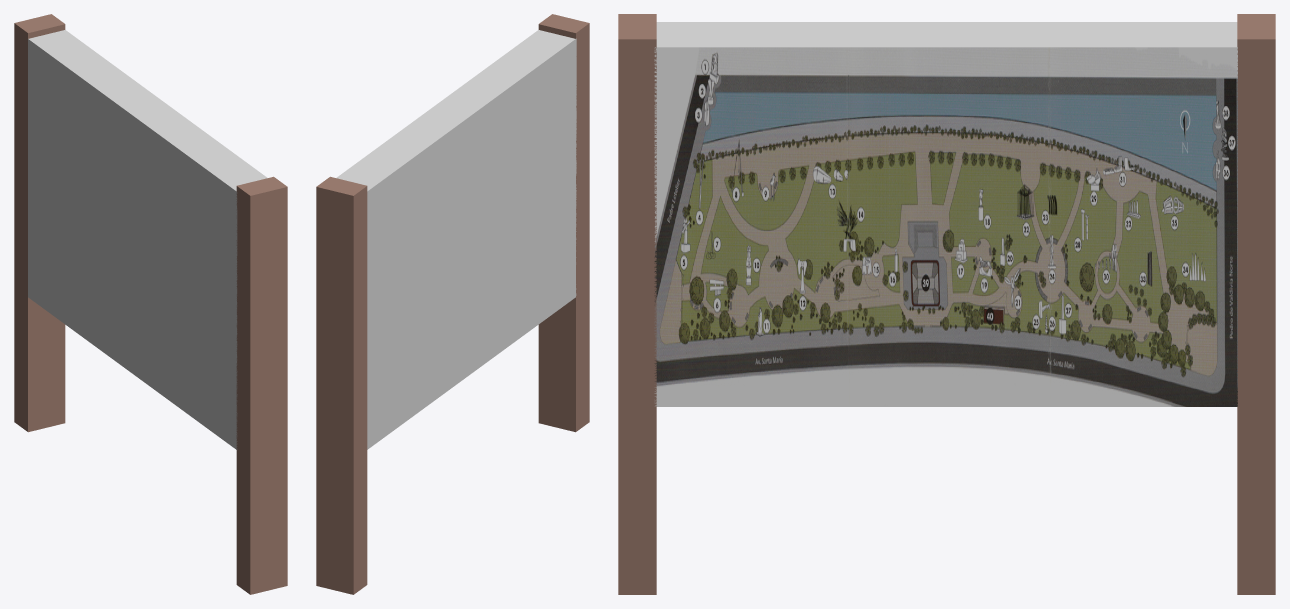
The model's file is Señaletica.fbx.
3 views of the same model, side by side, from view 1: azimuth 30°, elevation 25°; view 2: azimuth 150°, elevation 25°; view 3: azimuth 270°, elevation 25° (orthographic). The views are drawn at different scales.
Visible parts, largest first — view 1: Cube.001, Cube; view 2: Cube.001, Cube; view 3: Cube.001, Cube.
Part boxes in pixels (box(x1,y1,x2,y2)): Cube.001: box(28, 30, 267, 449); Cube: box(14, 14, 287, 594); Cube.001: box(336, 30, 576, 449); Cube: box(316, 14, 589, 594); Cube.001: box(654, 22, 1237, 406); Cube: box(618, 14, 1275, 594).
Bounding box in the file's own units: 74.63 × 764 × 819.
3 materials, 1 textured.
